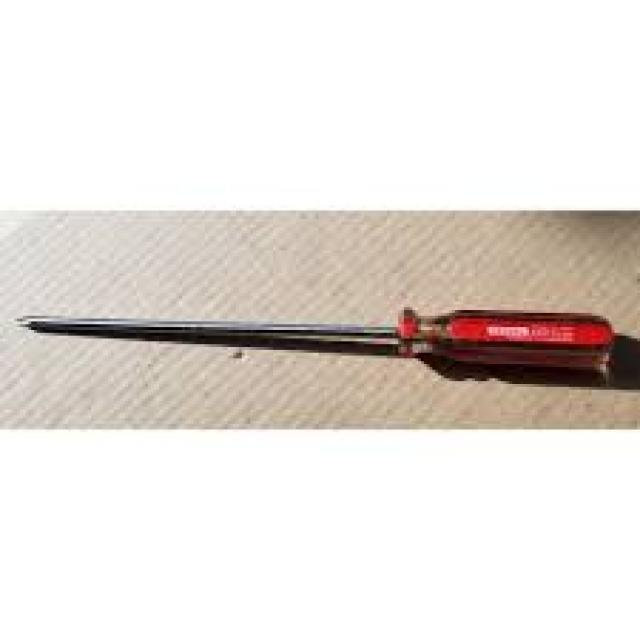screwdriver: (9, 297, 628, 380)
